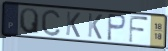C: (40, 8, 62, 38)
F: (128, 14, 150, 45)
K: (65, 10, 82, 39), (87, 12, 104, 41)
P: (106, 13, 127, 43)
Q: (18, 7, 41, 36)
